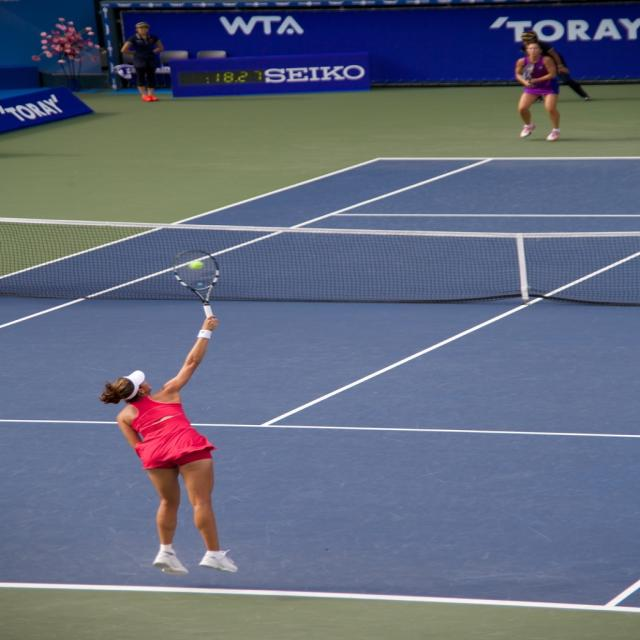Tennis ball: (190, 261, 204, 270)
